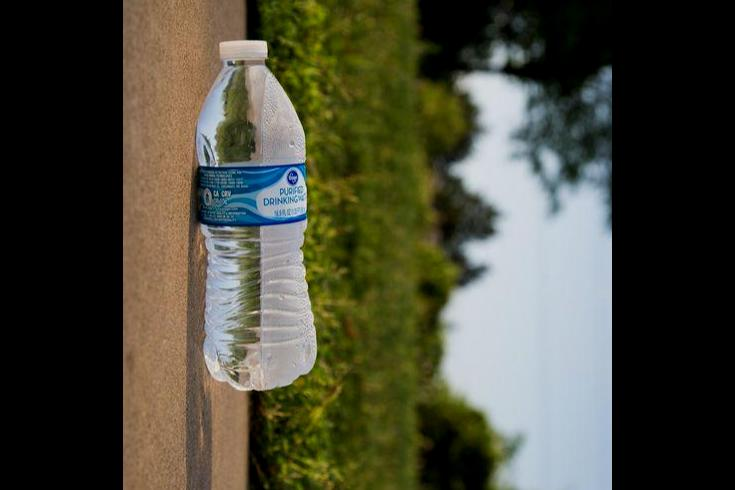bottle: (151, 33, 321, 397)
